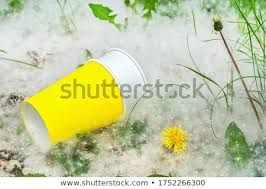cup: (19, 46, 151, 150)
